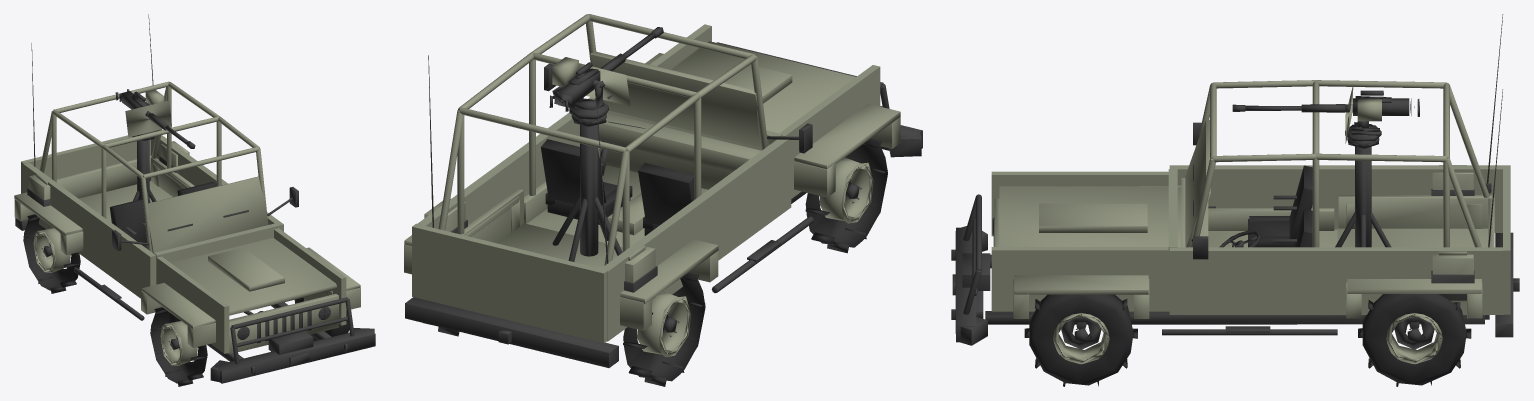
Rendered from jeep.glb.
3 views of the same model, side by side, from view 1: azimuth 30°, elevation 25°; view 2: azimuth 150°, elevation 25°; view 3: azimuth 270°, elevation 25° (orthographic). The views are drawn at different scales.
Visible parts, largest first — view 1: body, wheel_fr, wheel_rr, mg_turret, mg_gun; view 2: body, wheel_fr, wheel_rr, mg_gun, mg_turret; view 3: body, wheel_fl, wheel_rl, mg_gun, mg_turret.
Boxes of the visible parts, box(x1,y1,x2,y2) form: body: box(14, 14, 375, 383); wheel_fr: box(150, 307, 207, 386); wheel_rr: box(23, 214, 80, 293); mg_turret: box(125, 100, 171, 140); mg_gun: box(115, 89, 195, 148); body: box(404, 14, 922, 367); wheel_fr: box(805, 138, 887, 253); wheel_rr: box(623, 272, 705, 386); mg_gun: box(549, 27, 663, 111); mg_turret: box(552, 63, 630, 126); body: box(951, 14, 1519, 345); wheel_fl: box(1024, 294, 1137, 386); wheel_rl: box(1358, 294, 1471, 386); mg_gun: box(1232, 90, 1419, 121); mg_turret: box(1345, 85, 1381, 148).
Bounding box in the file's own units: 2.14 × 2.45 × 4.43.
